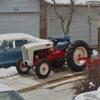Tractor: (17, 31, 99, 84)
